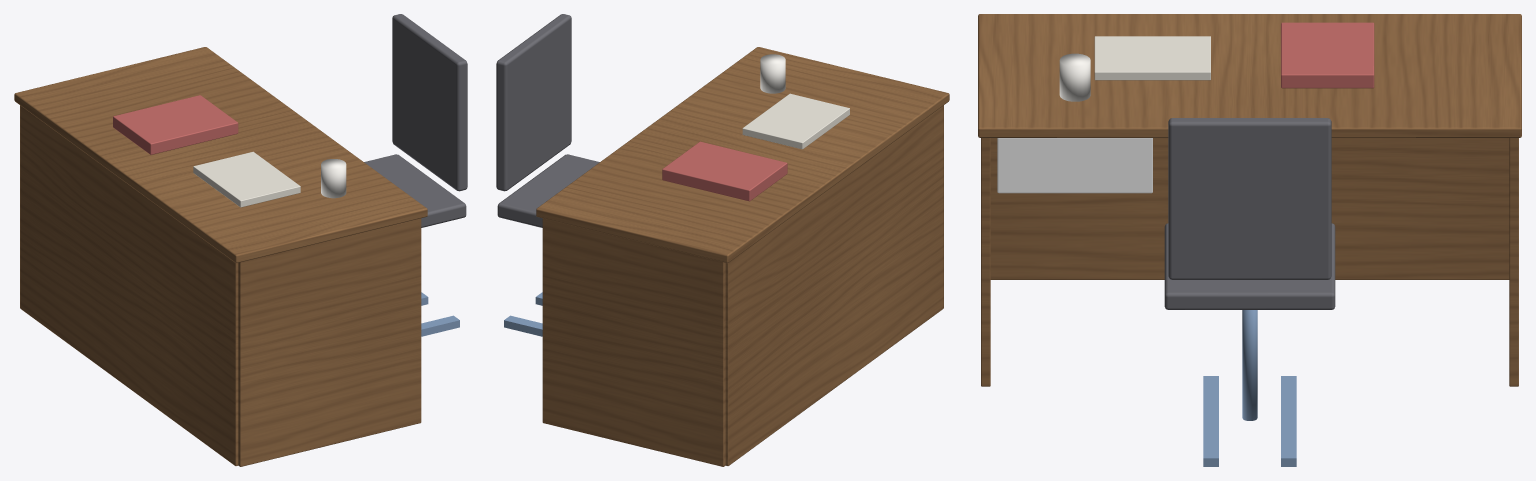
File: sala.escritorio_profe.fbx
3 views of the same model, side by side, from view 1: azimuth 30°, elevation 25°; view 2: azimuth 150°, elevation 25°; view 3: azimuth 270°, elevation 25° (orthographic). The views are drawn at different scales.
Visible parts, largest first — view 1: Frente, Lateral.001, Cubierta, Respaldo, Libro de clases, Cuadernos, Asiento, Tazon, Base.001; view 2: Frente, Lateral, Cubierta, Respaldo, Libro de clases, Cuadernos, Asiento, Tazon, Base; view 3: Cubierta, Frente, Respaldo, Cajonera, Libro de clases, Asiento, Cuadernos, Lateral, Lateral.001, Pata, Tazon, Base (+1 smaller).
Boxes of the visible parts, left/top/right/bottom form: Frente: left=20, top=105, right=238, bottom=465; Lateral.001: left=238, top=218, right=421, bottom=466; Cubierta: left=14, top=47, right=427, bottom=263; Respaldo: left=392, top=14, right=467, bottom=191; Libro de clases: left=113, top=95, right=238, bottom=154; Cuadernos: left=193, top=151, right=300, bottom=207; Asiento: left=364, top=154, right=466, bottom=227; Tazon: left=321, top=159, right=346, bottom=198; Base.001: left=421, top=315, right=459, bottom=336; Frente: left=725, top=105, right=943, bottom=465; Lateral: left=542, top=218, right=725, bottom=466; Cubierta: left=536, top=47, right=949, bottom=263; Respaldo: left=496, top=14, right=571, bottom=191; Libro de clases: left=662, top=141, right=787, bottom=201; Cuadernos: left=742, top=93, right=849, bottom=149; Asiento: left=497, top=154, right=599, bottom=227; Tazon: left=760, top=54, right=785, bottom=93; Base: left=504, top=315, right=542, bottom=336; Cubierta: left=978, top=14, right=1521, bottom=137; Frente: left=990, top=138, right=1509, bottom=279; Respaldo: left=1168, top=118, right=1331, bottom=279; Cajonera: left=997, top=138, right=1152, bottom=193; Libro de clases: left=1281, top=22, right=1374, bottom=88; Asiento: left=1164, top=223, right=1335, bottom=309; Cuadernos: left=1094, top=36, right=1210, bottom=80; Lateral: left=1509, top=138, right=1518, bottom=386; Lateral.001: left=981, top=138, right=990, bottom=386; Pata: left=1242, top=310, right=1257, bottom=420; Tazon: left=1059, top=53, right=1090, bottom=101; Base: left=1281, top=376, right=1296, bottom=466.
Bounding box in the file's own units: 1.15 × 0.9675 × 1.4.
Materials: 7 (1 with a texture image).
